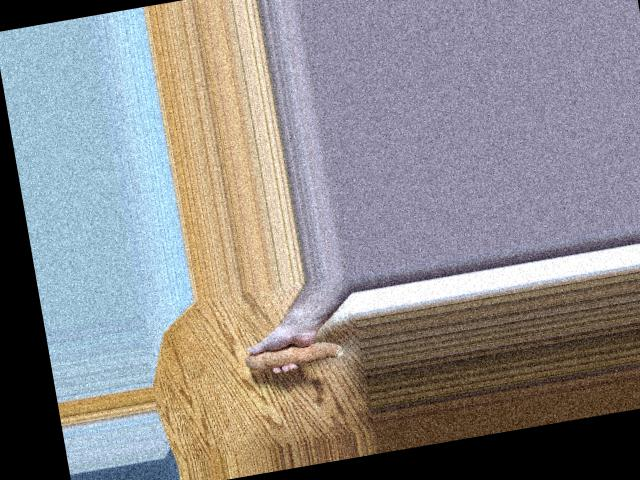sweet_potato: (241, 327, 346, 374)
